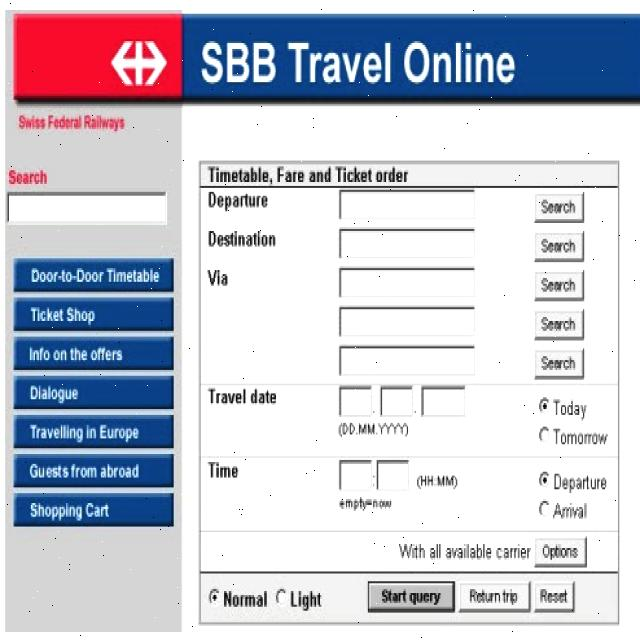button: (13, 296, 175, 333), (13, 335, 174, 372), (13, 491, 175, 527), (12, 256, 173, 292), (13, 375, 174, 410), (12, 414, 174, 448), (14, 453, 174, 487), (366, 578, 456, 615), (458, 579, 532, 614), (534, 190, 586, 226), (534, 536, 587, 569), (533, 348, 586, 381), (534, 310, 586, 341), (534, 270, 584, 301), (534, 231, 584, 262), (534, 579, 575, 614)
checkbox: (272, 584, 290, 609), (206, 584, 222, 606)
icon: (12, 14, 182, 99)
input: (338, 306, 477, 340), (337, 265, 476, 299), (338, 226, 477, 260), (338, 344, 477, 377), (338, 189, 476, 220), (421, 385, 467, 417), (375, 457, 410, 493), (378, 384, 414, 418), (338, 458, 373, 492), (338, 384, 372, 417)
label: (198, 33, 526, 90), (5, 190, 168, 227), (204, 157, 414, 185), (396, 538, 532, 564), (13, 111, 132, 138), (204, 226, 282, 252), (206, 384, 281, 409), (204, 188, 274, 214), (334, 419, 414, 440), (553, 470, 608, 495), (552, 425, 610, 448), (6, 163, 50, 190), (415, 470, 461, 495), (205, 453, 244, 482), (338, 496, 397, 515), (202, 260, 235, 292), (223, 589, 268, 610), (553, 398, 590, 422), (290, 590, 324, 614), (552, 500, 590, 521)
radio: (538, 496, 552, 518), (538, 424, 551, 444), (538, 469, 550, 488), (538, 395, 550, 414)
